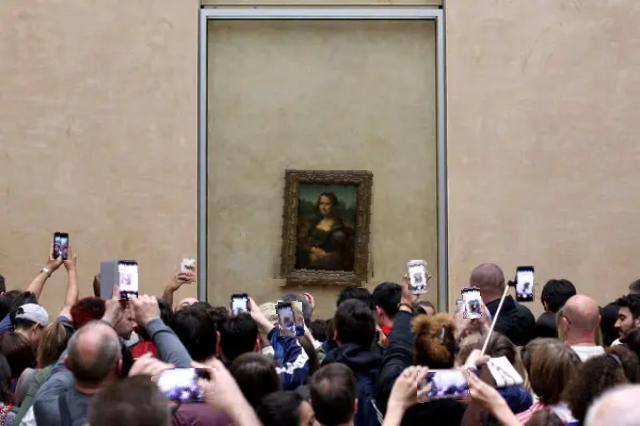art: (270, 170, 374, 286)
phone: (152, 368, 216, 404), (417, 370, 471, 402), (276, 301, 304, 337), (114, 260, 138, 300), (407, 260, 429, 294), (515, 266, 535, 302), (50, 230, 74, 260), (226, 290, 250, 318), (463, 287, 481, 319), (177, 254, 197, 282)
